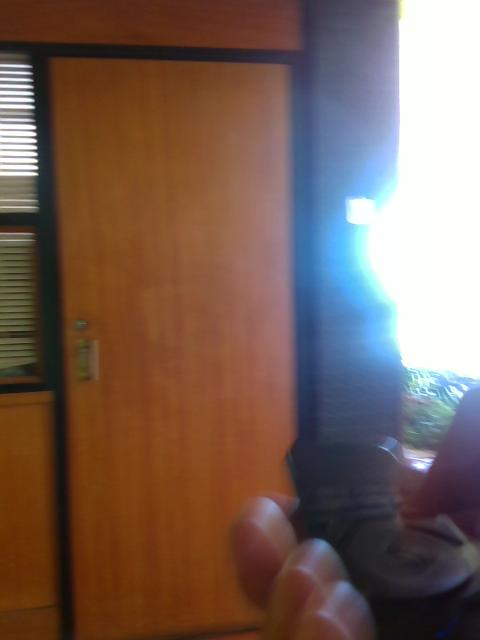door: (39, 44, 306, 639)
